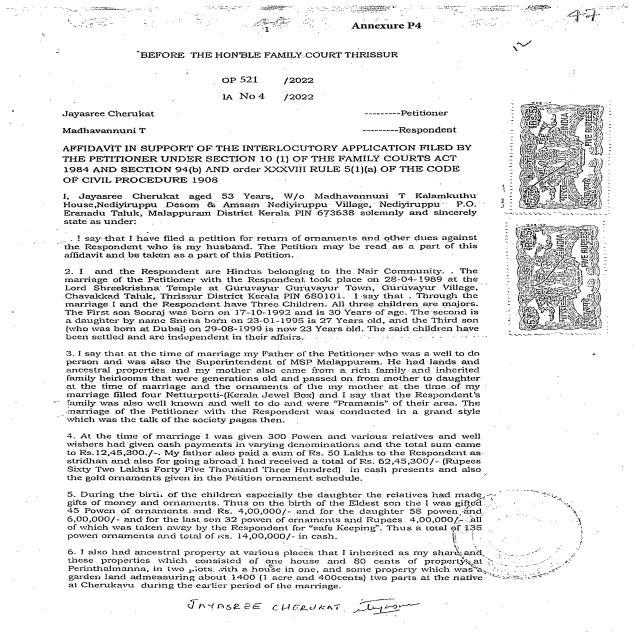page-number: (436, 0, 640, 36)
